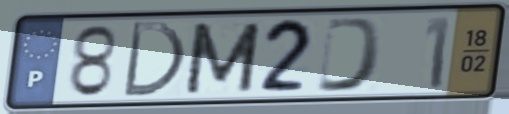1: (422, 13, 454, 91)
2: (256, 15, 317, 97)
8: (67, 23, 119, 99)
D: (312, 15, 386, 95), (118, 20, 189, 100)
M: (181, 19, 265, 96)
